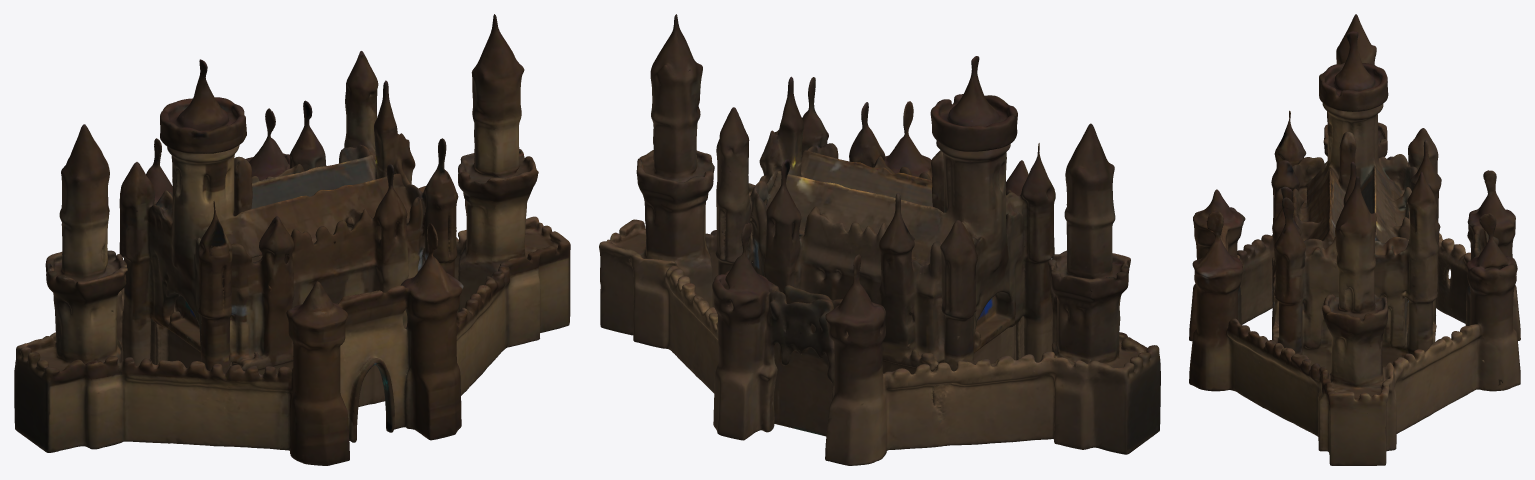
The model's file is Meshy_AI_Medieval_Castle_0222000631_texture.glb.
The picture shows the model from 3 angles, left to right: view 1: azimuth 30°, elevation 25°; view 2: azimuth 150°, elevation 25°; view 3: azimuth 270°, elevation 25°; orthographic projection. The views are drawn at different scales.
Bounding box in the file's own units: 2 × 1.25 × 1.3.
1 material, 1 textured.
